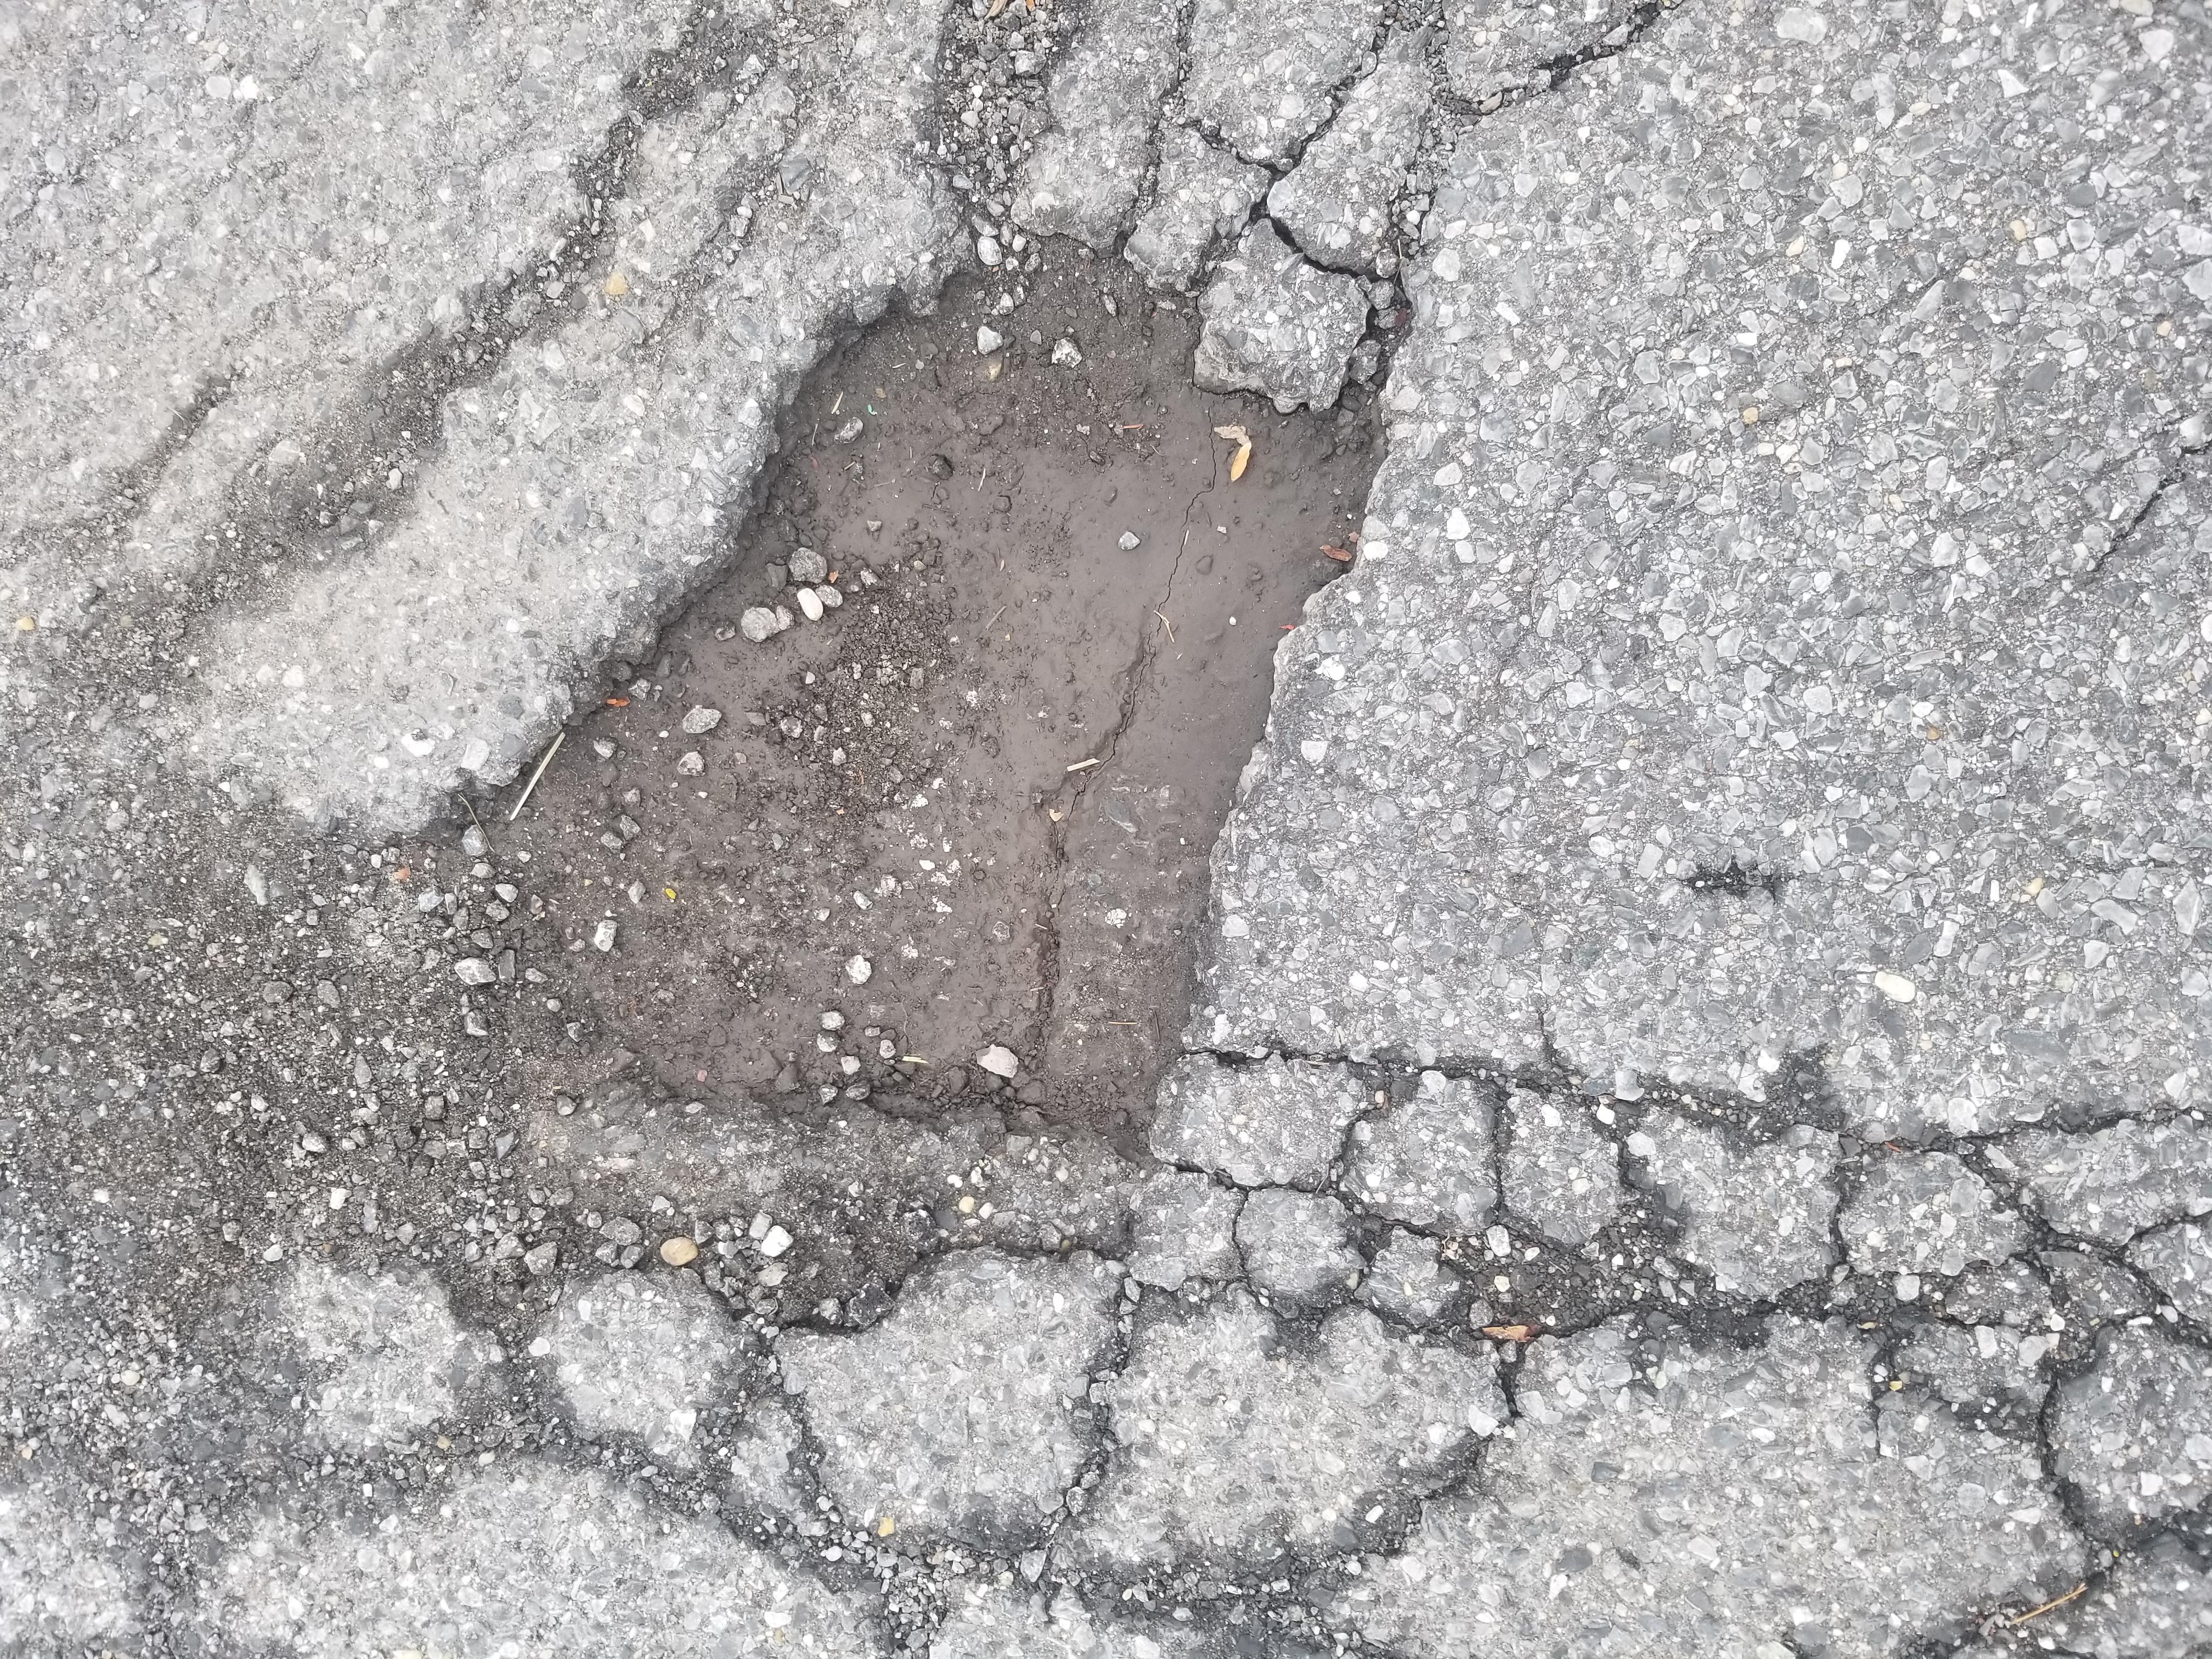alligator-crack: (0, 342, 831, 1659), (1709, 816, 2212, 1225)
pothole: (509, 305, 1923, 1028)
